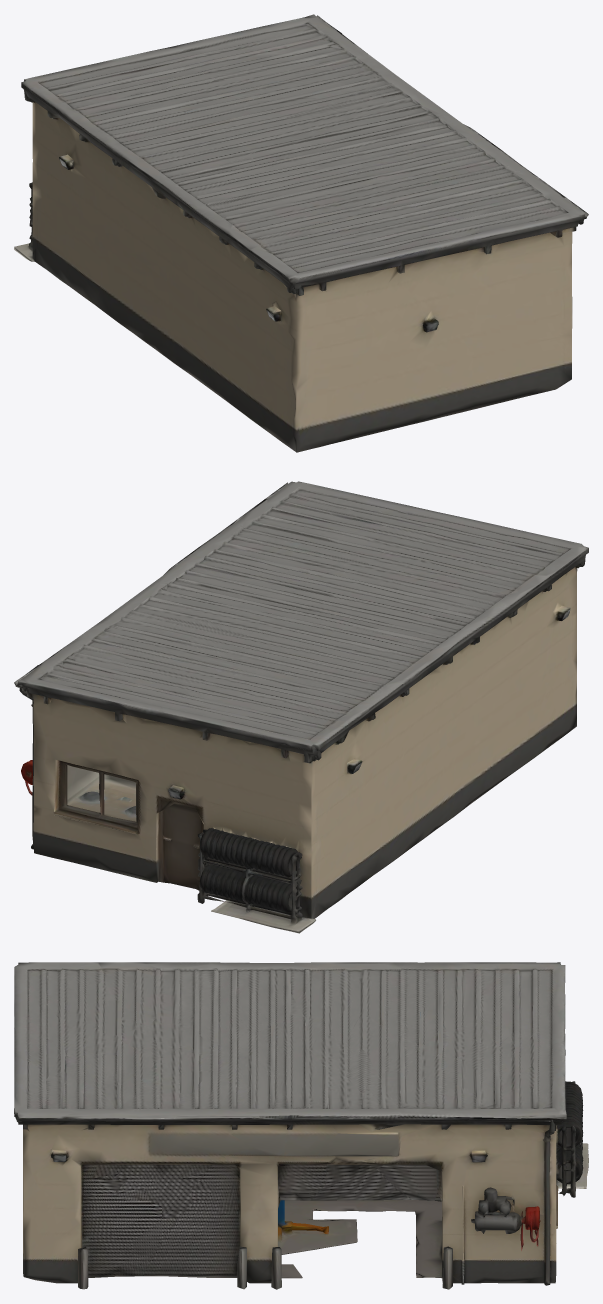
Rendered from workshop.glb.
3 views of the same model, one above another, from view 1: azimuth 30°, elevation 25°; view 2: azimuth 150°, elevation 25°; view 3: azimuth 270°, elevation 25° (orthographic).
Parts seen in each view (by area): view 1: tripo_node_775ffc7f-b70a-4cc6-91ed-0b66fb0ca2ed; view 2: tripo_node_775ffc7f-b70a-4cc6-91ed-0b66fb0ca2ed; view 3: tripo_node_775ffc7f-b70a-4cc6-91ed-0b66fb0ca2ed.
Boxes of the visible parts, <box> form: tripo_node_775ffc7f-b70a-4cc6-91ed-0b66fb0ca2ed: <box>14,14,588,452</box>; tripo_node_775ffc7f-b70a-4cc6-91ed-0b66fb0ca2ed: <box>14,481,588,933</box>; tripo_node_775ffc7f-b70a-4cc6-91ed-0b66fb0ca2ed: <box>14,962,588,1289</box>.
Bounding box in the file's own units: 0.6236 × 0.3476 × 1.
Materials: 1 (1 with a texture image).
